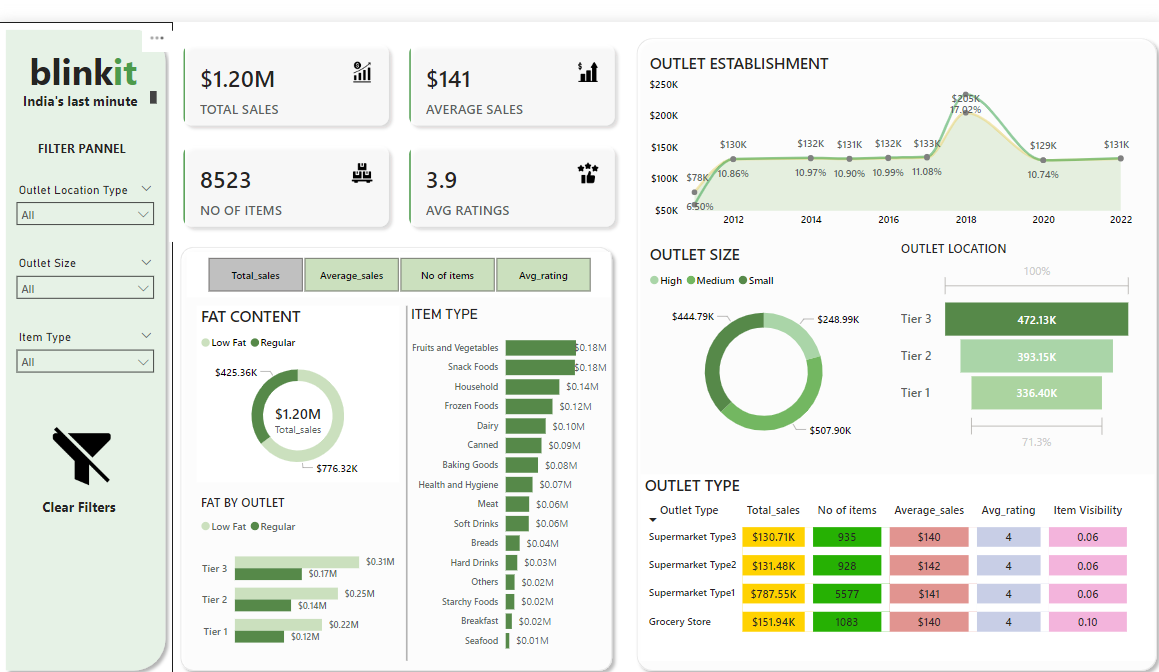

This screenshot's page, from the dashboard's own definition file:
{"tool":"powerbi","page":{"name":"blinkit sales and outlet performance","canvas":[1400,800],"ordinal":0},"visuals":[{"type":"shape","box":[0,0,210.1,788],"z":0},{"type":"textbox","box":[21,24,162.1,70.5],"z":1000},{"type":"textbox","box":[10.5,78,184.6,33],"z":2000},{"type":"cardVisual","fields":{"Data":["BlinkIT Grocery Data.Total_sales","BlinkIT Grocery Data.Average_sales","BlinkIT Grocery Data.Number of items","BlinkIT Grocery Data.Avg_rating"]},"box":[205.6,10.5,552.3,253.6],"z":3000},{"type":"shape","box":[210.5,261.4,536.2,526.8],"z":4000},{"type":"donutChart","title":"FAT CONTENT","fields":{"Y":["BlinkIT Grocery Data.Total_sales"],"Category":["BlinkIT Grocery Data.Item Fat Content"]},"box":[238.6,340.7,243.1,211.6],"z":5000},{"type":"slicer","fields":{"Values":["Metrics.Metrics"]},"box":[226.6,276.2,508.8,54],"z":6000},{"type":"cardVisual","fields":{"Data":["BlinkIT Grocery Data.Total_sales"]},"box":[295.7,432.2,129.1,90.1],"z":7000},{"type":"clusteredBarChart","title":"FAT BY OUTLET","fields":{"Y":["BlinkIT Grocery Data.Total_sales"],"Category":["BlinkIT Grocery Data.Outlet Location Type"],"Series":["BlinkIT Grocery Data.Item Fat Content"]},"box":[238.6,565.8,243.1,201.1],"z":8000},{"type":"barChart","title":"ITEM TYPE","fields":{"Y":["BlinkIT Grocery Data.Total_sales"],"Category":["BlinkIT Grocery Data.Item Type"]},"box":[490.6,340.5,245.3,426.3],"z":9000},{"type":"shape","box":[484.8,340.7,12,426.2],"z":10000},{"type":"shape","box":[757.9,10.5,642.4,777.4],"z":11000},{"type":"lineChart","title":"OUTLET ESTABLISHMENT","fields":{"Category":["BlinkIT Grocery Data.Outlet Establishment Year"],"Y":["BlinkIT Grocery Data.Total_sales"],"Y2":["Sum(BlinkIT Grocery Data.Sales)"]},"box":[777.5,36.2,589.8,219.8],"z":12000},{"type":"donutChart","title":"OUTLET SIZE","fields":{"Y":["BlinkIT Grocery Data.Total_sales"],"Series":["BlinkIT Grocery Data.Outlet Size"]},"box":[777.5,265.4,284.2,256],"z":13000},{"type":"funnel","title":"OUTLET LOCATION","fields":{"Y":["Sum(BlinkIT Grocery Data.Sales)"],"Category":["BlinkIT Grocery Data.Outlet Location Type"]},"box":[1079.1,261.4,288.2,260.1],"z":14000},{"type":"pivotTable","title":"OUTLET TYPE","fields":{"Rows":["BlinkIT Grocery Data.Outlet Type"],"Values":["BlinkIT Grocery Data.Total_sales","BlinkIT Grocery Data.No of items","BlinkIT Grocery Data.Average_sales","BlinkIT Grocery Data.Avg_rating","Avg(BlinkIT Grocery Data.Item Visibility)"]},"box":[770.8,542.9,616.6,223.9],"z":15000},{"type":"slicer","fields":{"Values":["BlinkIT Grocery Data.Outlet Location Type"]},"box":[12.1,187.7,185,57.6],"z":16000},{"type":"slicer","fields":{"Values":["BlinkIT Grocery Data.Outlet Size"]},"box":[12.1,276.1,185,57.6],"z":17000},{"type":"slicer","fields":{"Values":["BlinkIT Grocery Data.Item Type"]},"box":[12.1,364.6,185,57.6],"z":18000},{"type":"textbox","box":[32.2,136.7,138.1,36.2],"z":19000},{"type":"image","box":[56.3,477.2,87.1,88.5],"z":20000},{"type":"textbox","box":[48.7,566.1,112.6,36.5],"z":21000}]}

Visuals, with their boxes in screenshot pixels (x1, y1, x2, y2), scaled from the page's 1400x800 canvas onto the 1159x672 screenshot:
shape: bbox(0, 0, 174, 662)
textbox: bbox(17, 20, 152, 79)
textbox: bbox(9, 66, 162, 93)
cardVisual - BlinkIT Grocery Data.Total_sales x BlinkIT Grocery Data.Average_sales: bbox(170, 9, 627, 222)
shape: bbox(174, 220, 618, 662)
"FAT CONTENT" donutChart: bbox(198, 286, 399, 464)
slicer - Metrics.Metrics: bbox(188, 232, 609, 277)
cardVisual - BlinkIT Grocery Data.Total_sales: bbox(245, 363, 352, 439)
"FAT BY OUTLET" clusteredBarChart: bbox(198, 475, 399, 644)
"ITEM TYPE" barChart: bbox(406, 286, 609, 644)
shape: bbox(401, 286, 411, 644)
shape: bbox(627, 9, 1158, 662)
"OUTLET ESTABLISHMENT" lineChart: bbox(644, 30, 1132, 215)
"OUTLET SIZE" donutChart: bbox(644, 223, 879, 438)
"OUTLET LOCATION" funnel: bbox(893, 220, 1132, 438)
"OUTLET TYPE" pivotTable: bbox(638, 456, 1149, 644)
slicer - BlinkIT Grocery Data.Outlet Location Type: bbox(10, 158, 163, 206)
slicer - BlinkIT Grocery Data.Outlet Size: bbox(10, 232, 163, 280)
slicer - BlinkIT Grocery Data.Item Type: bbox(10, 306, 163, 355)
textbox: bbox(27, 115, 141, 145)
image: bbox(47, 401, 119, 475)
textbox: bbox(40, 476, 134, 506)
